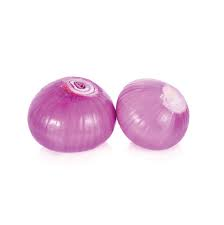onion: (27, 75, 117, 155), (118, 78, 190, 151)
